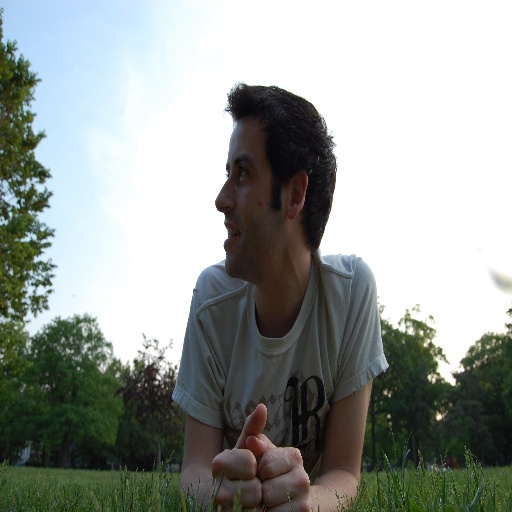hand: (211, 403, 267, 511), (244, 433, 312, 511)
